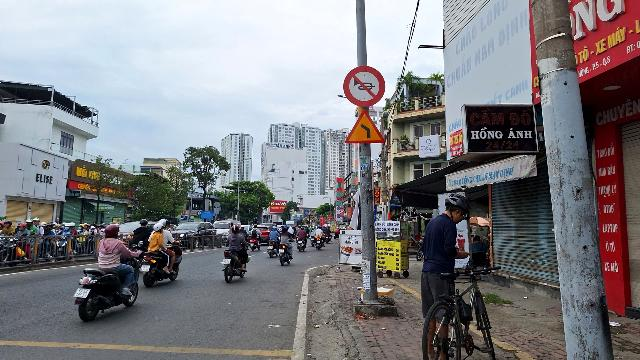cam-bop-coi: (344, 65, 386, 107)
cho-ngoat-nguy-hiem-ben-trai: (345, 108, 385, 143)
